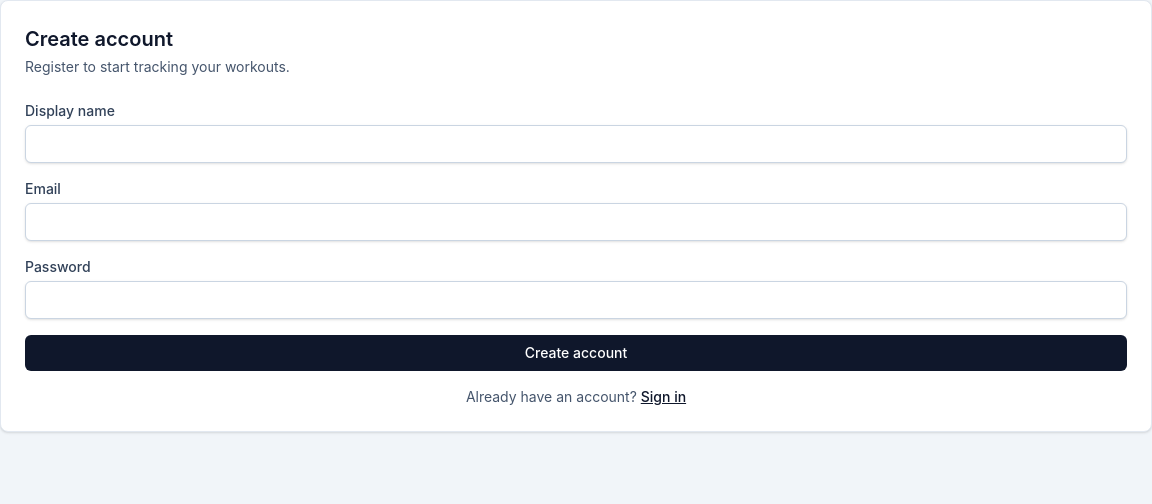
Test: RegisterPage › displays duplicate email errors from the backend
In the field labelled "Display name": point(576, 144) x1=25 y1=125 x2=1127 y2=163, type "Vishal"
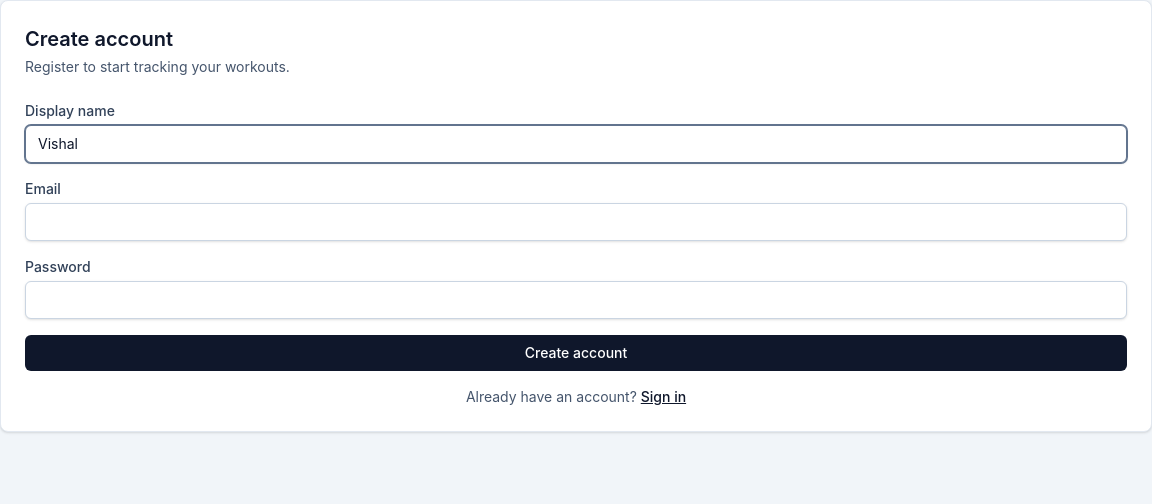
In the field labelled "Email": point(576, 222) x1=25 y1=203 x2=1127 y2=241, type "vishal@example.com"
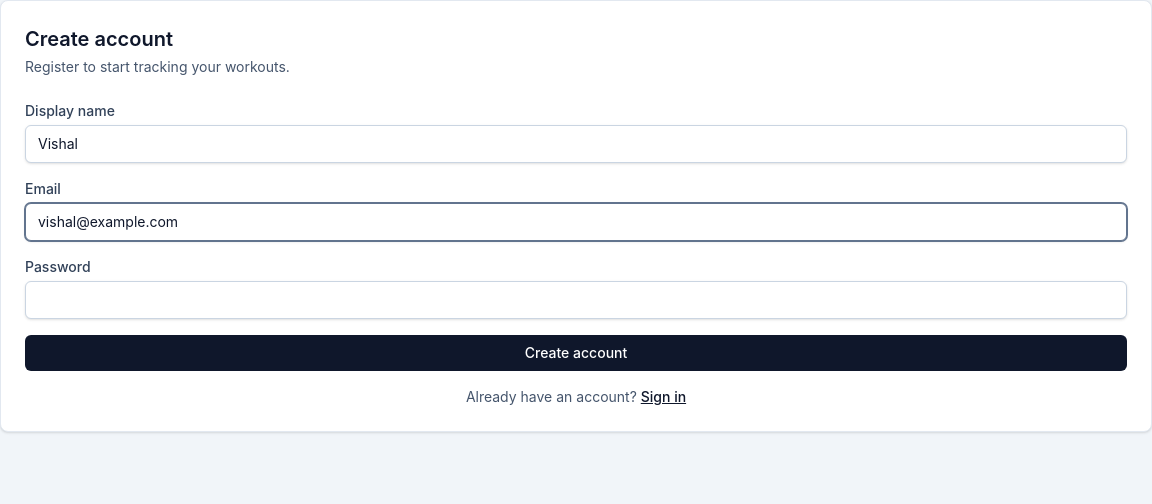
In the password field labelled "Password": point(576, 300) x1=25 y1=281 x2=1127 y2=319, type "secret-value"
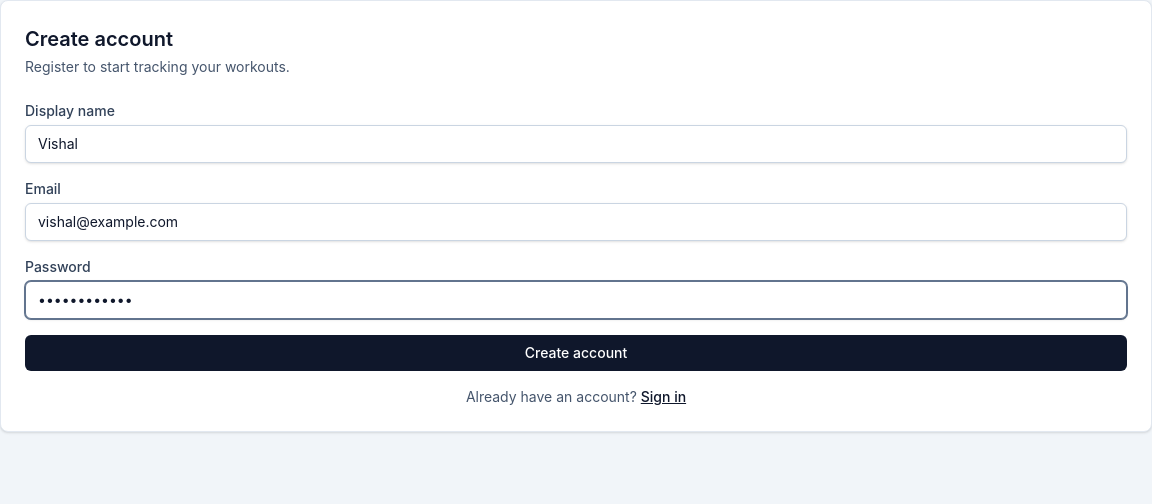
Click the button "Create account": point(576, 353) x1=25 y1=335 x2=1127 y2=371
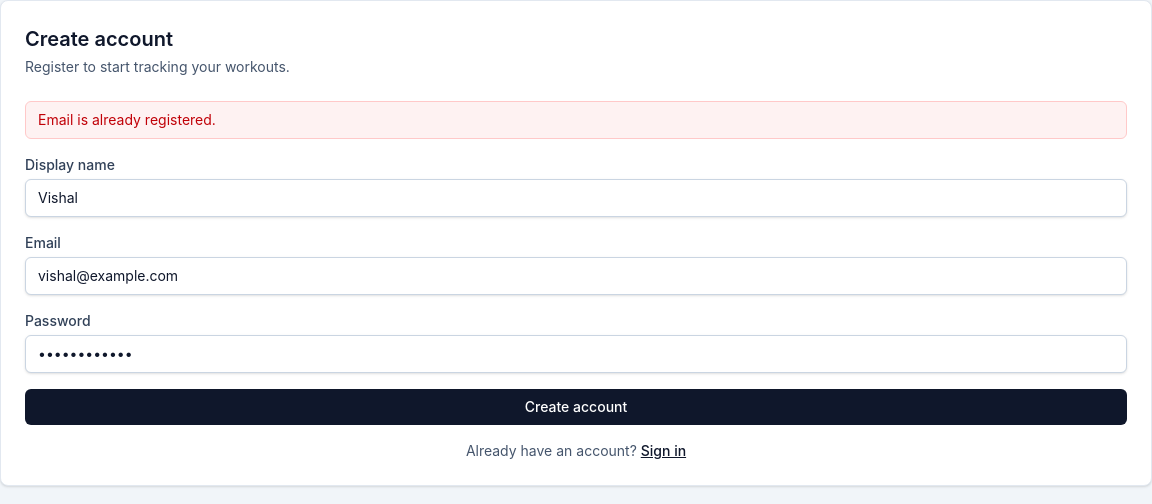
Now the message reads "Email is already registered.", box x1=38 y1=111 x2=216 y2=128
